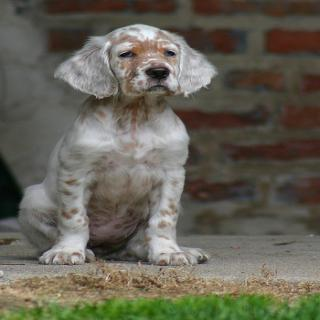dog: (51, 22, 222, 266)
